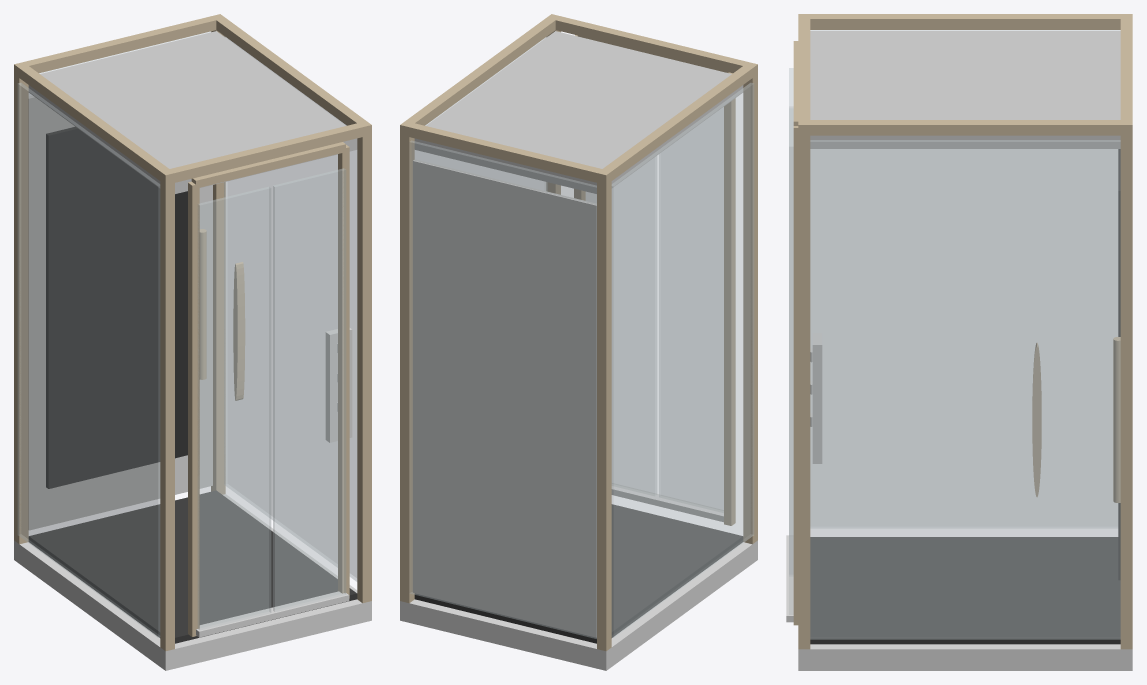
The model's file is Elevator_Master.glb.
The picture shows the model from 3 angles, left to right: view 1: azimuth 30°, elevation 25°; view 2: azimuth 150°, elevation 25°; view 3: azimuth 270°, elevation 25°; orthographic projection. The views are drawn at different scales.
Parts seen in each view (by area): view 1: Glass_Left, Glass_Right, Design_Wall, Door_Right, Door_Left, Ceiling_Module, Interior_Floor, Interior_Back_Wall, Floor_Module_Master, Frame_Post_FL, Frame_Post_FR, Frame_Post_BL (+12 smaller); view 2: Glass_Back, Interior_Back_Wall, Glass_Left, Ceiling_Module, Door_Left, Door_Right, Interior_Floor, Floor_Module_Master, Frame_Post_BL, Frame_Post_FL, Frame_Post_BR, Door_Frame_Left (+6 smaller); view 3: Glass_Right, Glass_Left, Interior_Floor, Ceiling_Module, Floor_Module_Master, Frame_Post_FR, Frame_Post_BR, Frame_Top_Right, Frame_Top_Left, Door_Frame_Right, Door_Right, Door_Left (+7 smaller).
Boxes of the visible parts, left/top/right/bottom form: Glass_Left: left=18, top=83, right=159, bottom=637; Glass_Right: left=224, top=36, right=356, bottom=581; Design_Wall: left=46, top=127, right=187, bottom=488; Door_Right: left=273, top=168, right=345, bottom=611; Door_Left: left=198, top=187, right=270, bottom=629; Ceiling_Module: left=28, top=31, right=357, bottom=193; Interior_Floor: left=28, top=490, right=357, bottom=643; Interior_Back_Wall: left=28, top=96, right=212, bottom=530; Floor_Module_Master: left=14, top=494, right=371, bottom=670; Frame_Post_FL: left=160, top=178, right=174, bottom=651; Frame_Post_FR: left=357, top=130, right=371, bottom=603; Frame_Post_BL: left=14, top=74, right=28, bottom=544; Glass_Back: left=409, top=140, right=596, bottom=638; Interior_Back_Wall: left=413, top=159, right=596, bottom=637; Glass_Left: left=612, top=83, right=753, bottom=637; Ceiling_Module: left=414, top=31, right=743, bottom=193; Door_Left: left=659, top=107, right=723, bottom=510; Door_Right: left=586, top=156, right=656, bottom=494; Interior_Floor: left=414, top=504, right=743, bottom=643; Floor_Module_Master: left=400, top=540, right=757, bottom=670; Frame_Post_BL: left=597, top=177, right=611, bottom=651; Frame_Post_FL: left=743, top=71, right=757, bottom=544; Frame_Post_BR: left=400, top=130, right=414, bottom=603; Door_Frame_Left: left=724, top=72, right=735, bottom=525; Glass_Right: left=810, top=140, right=1120, bottom=639; Glass_Left: left=810, top=30, right=1120, bottom=528; Interior_Floor: left=810, top=537, right=1120, bottom=644; Ceiling_Module: left=810, top=31, right=1120, bottom=148; Floor_Module_Master: left=798, top=644, right=1132, bottom=670; Frame_Post_FR: left=798, top=130, right=810, bottom=649; Frame_Post_BR: left=1120, top=130, right=1132, bottom=649; Frame_Top_Right: left=798, top=120, right=1132, bottom=135; Frame_Top_Left: left=800, top=14, right=1131, bottom=29; Door_Frame_Right: left=793, top=126, right=798, bottom=625; Door_Right: left=789, top=108, right=793, bottom=614; Door_Left: left=789, top=68, right=793, bottom=536.
Bounding box in the file's own units: 1.12 × 2.53 × 1.45.
